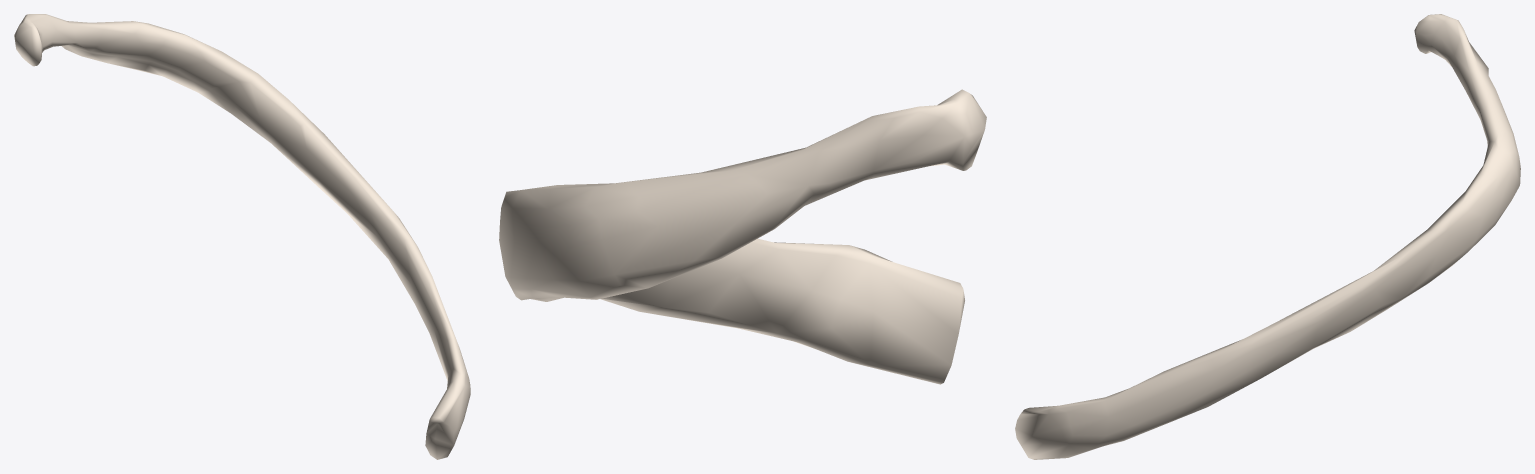
File: left_rib_7.glb
3 views of the same model, side by side, from view 1: azimuth 30°, elevation 25°; view 2: azimuth 150°, elevation 25°; view 3: azimuth 270°, elevation 25° (orthographic). The views are drawn at different scales.
Parts seen in each view (by area): view 1: Rib (7th).r; view 2: Rib (7th).r; view 3: Rib (7th).r.
Part boxes in pixels (x1,y1,x2,y2): Rib (7th).r: [14, 14, 470, 459]; Rib (7th).r: [499, 89, 986, 384]; Rib (7th).r: [1015, 14, 1520, 459].
Bounding box in the file's own units: 0.0751 × 0.0838 × 0.1122.
